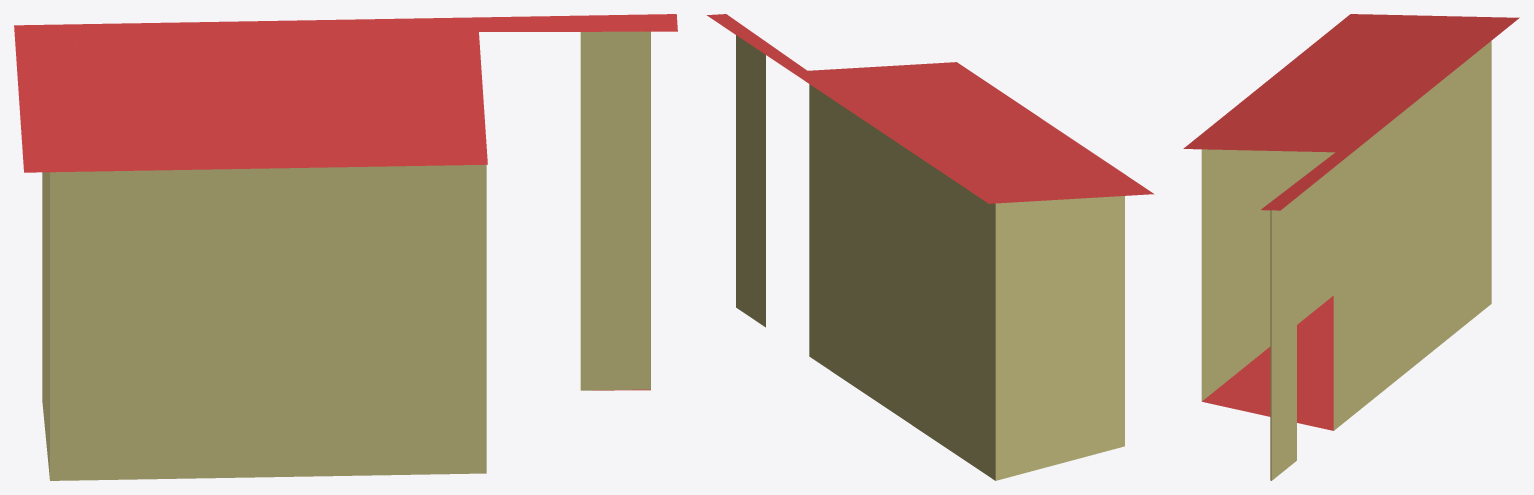
The picture shows the model from 3 angles, left to right: view 1: azimuth 30°, elevation 25°; view 2: azimuth 150°, elevation 25°; view 3: azimuth 270°, elevation 25°; orthographic projection. The views are drawn at different scales.
Size of the model in its own units: 12.96 by 8.01 by 7.41.
